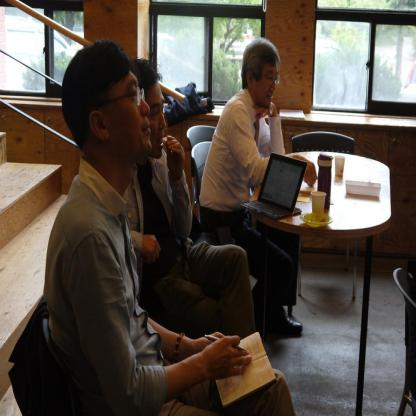board: (238, 150, 308, 223)
